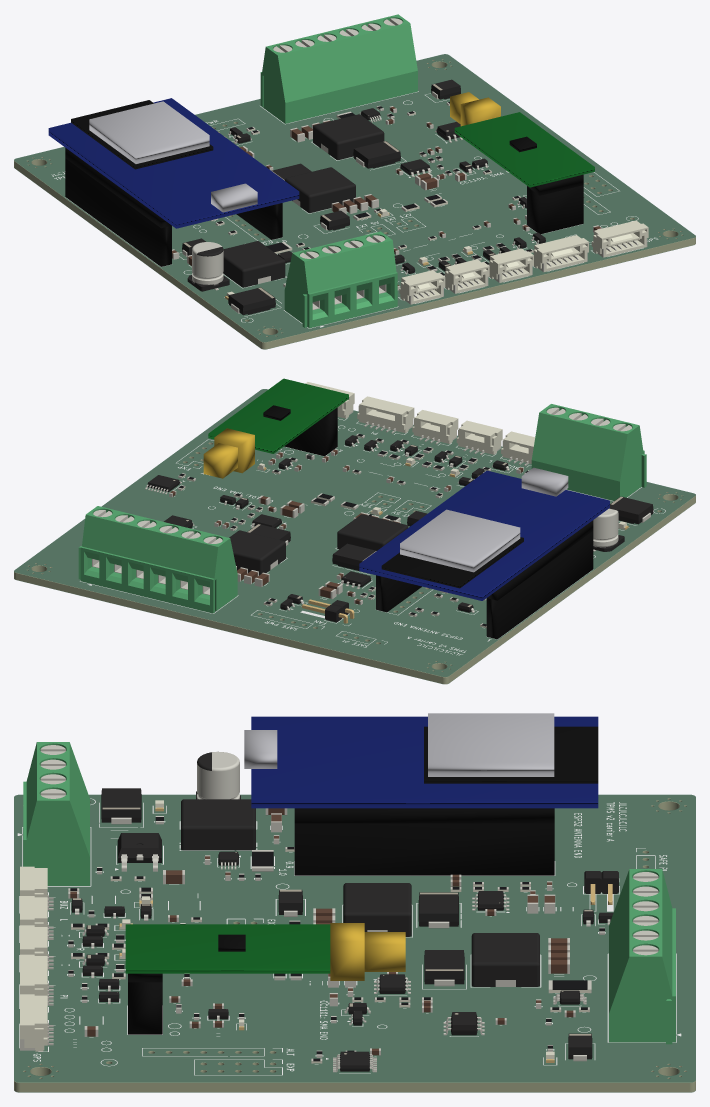
Rendered from tpms_v2_carrier.glb.
3 renders of one model, top to bottom at view 1: azimuth 30°, elevation 25°; view 2: azimuth 150°, elevation 25°; view 3: azimuth 270°, elevation 25°, orthographic. The views are drawn at different scales.
Parts seen in each view (by area): view 1: =>[0:1:1:77], =>[0:1:1:75], =>[0:1:1:31], =>[0:1:1:70], =>[0:1:1:39], =>[0:1:1:49], =>[0:1:1:13] (×3), =>[0:1:1:27] (×3), =>[0:1:1:55] (×2), =>[0:1:1:73], =>[0:1:1:45] (×2), =>[0:1:1:41]; view 2: =>[0:1:1:75], =>[0:1:1:77], =>[0:1:1:31], =>[0:1:1:70], =>[0:1:1:39], =>[0:1:1:49], =>[0:1:1:13] (×2), =>[0:1:1:27] (×3), =>[0:1:1:73], =>[0:1:1:45] (×2), =>[0:1:1:55], =>[0:1:1:41] (+2 smaller); view 3: =>[0:1:1:75], =>[0:1:1:77], =>[0:1:1:31], =>[0:1:1:39], =>[0:1:1:13] (×3), =>[0:1:1:70], =>[0:1:1:49], =>[0:1:1:73], =>[0:1:1:45] (×3), =>[0:1:1:55] (×2), =>[0:1:1:27] (×3), =>[0:1:1:41] (+7 smaller).
Part boxes in pixels (box(x1,y1,x2,y2)): =>[0:1:1:77]: box(14, 55, 695, 349); =>[0:1:1:75]: box(14, 54, 695, 342); =>[0:1:1:31]: box(48, 98, 299, 266); =>[0:1:1:70]: box(260, 14, 417, 123); =>[0:1:1:39]: box(450, 92, 594, 233); =>[0:1:1:49]: box(284, 231, 397, 328); =>[0:1:1:13] (×3): box(223, 114, 384, 287); =>[0:1:1:27] (×3): box(399, 248, 533, 304); =>[0:1:1:55] (×2): box(533, 220, 648, 272); =>[0:1:1:73]: box(51, 91, 658, 328); =>[0:1:1:45] (×2): box(228, 141, 400, 315); =>[0:1:1:41]: box(187, 242, 229, 291); =>[0:1:1:75]: box(14, 389, 695, 676); =>[0:1:1:77]: box(14, 390, 695, 684); =>[0:1:1:31]: box(359, 467, 609, 639); =>[0:1:1:70]: box(78, 506, 237, 613); =>[0:1:1:39]: box(203, 378, 348, 478); =>[0:1:1:49]: box(531, 404, 646, 500); =>[0:1:1:13] (×2): box(229, 514, 408, 575); =>[0:1:1:27] (×3): box(412, 410, 535, 465); =>[0:1:1:73]: box(80, 418, 665, 655); =>[0:1:1:45] (×2): box(332, 496, 653, 570); =>[0:1:1:55]: box(357, 396, 414, 433); =>[0:1:1:41]: box(593, 504, 624, 551); =>[0:1:1:75]: box(14, 794, 695, 1082); =>[0:1:1:77]: box(14, 795, 695, 1092); =>[0:1:1:31]: box(244, 713, 598, 875); =>[0:1:1:39]: box(125, 923, 405, 1034); =>[0:1:1:13] (×3): box(181, 799, 539, 986); =>[0:1:1:70]: box(609, 869, 675, 1044); =>[0:1:1:49]: box(23, 742, 89, 885); =>[0:1:1:73]: box(17, 798, 681, 1075); =>[0:1:1:45] (×3): box(101, 788, 464, 986); =>[0:1:1:55] (×2): box(20, 954, 53, 1051); =>[0:1:1:27] (×3): box(20, 866, 53, 969); =>[0:1:1:41]: box(196, 751, 240, 799).
Bounding box in the file's own units: 0.0999 × 0.0193 × 0.0999.
